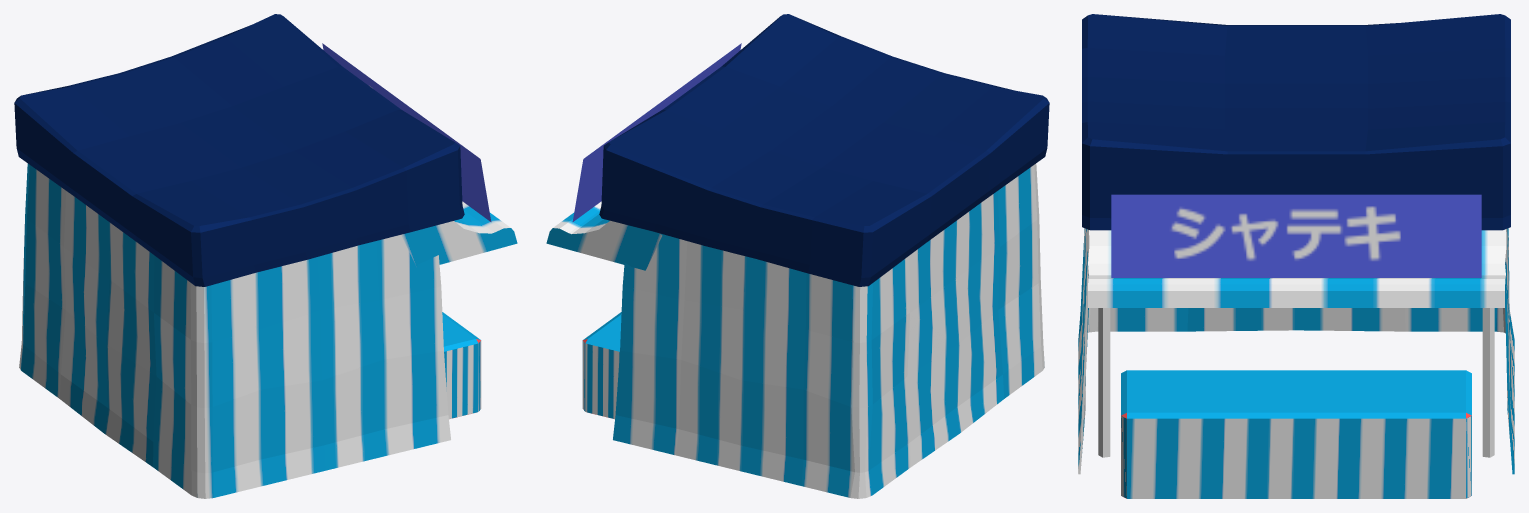
Rendered from rowyataisyateki_1.fbx.
The picture shows the model from 3 angles, left to right: view 1: azimuth 30°, elevation 25°; view 2: azimuth 150°, elevation 25°; view 3: azimuth 270°, elevation 25°; orthographic projection. The views are drawn at different scales.
Parts seen in each view (by area): view 1: 立方体, Cube, Cube.001, 立方体.001, 平面; view 2: 立方体, Cube, Cube.001, 立方体.001, 平面; view 3: Cube, 立方体.001, 平面, Cube.001, 立方体, 円柱.
Boxes of the visible parts, x1,y1,x2,y2 form: 立方体: [19, 163, 450, 498]; Cube: [14, 14, 464, 286]; Cube.001: [401, 201, 517, 267]; 立方体.001: [442, 312, 481, 419]; 平面: [322, 43, 491, 221]; 立方体: [613, 163, 1044, 498]; Cube: [599, 14, 1049, 286]; Cube.001: [546, 201, 662, 270]; 立方体.001: [582, 312, 621, 419]; 平面: [572, 43, 741, 221]; Cube: [1082, 14, 1510, 230]; 立方体.001: [1121, 370, 1471, 498]; 平面: [1111, 194, 1481, 277]; Cube.001: [1088, 229, 1506, 307]; 立方体: [1078, 228, 1514, 474]; 円柱: [1098, 308, 1494, 457].
Size of the model in its own units: 133 by 114 by 132.
Materials: 2 (2 with a texture image).
